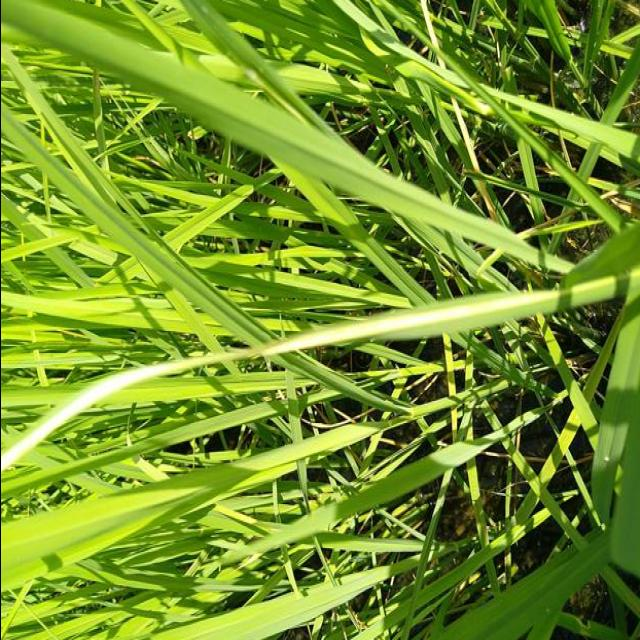Leaf Blight: (1, 277, 618, 471)
